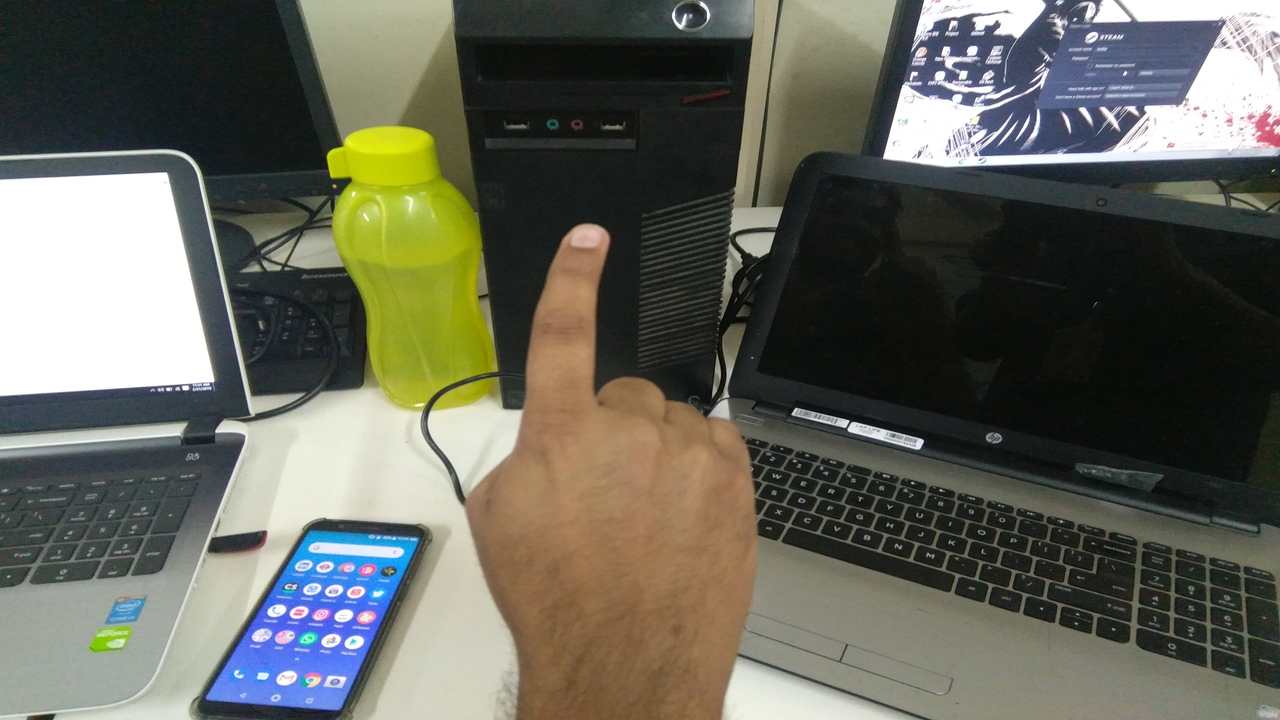fingertip: (548, 214, 614, 272)
